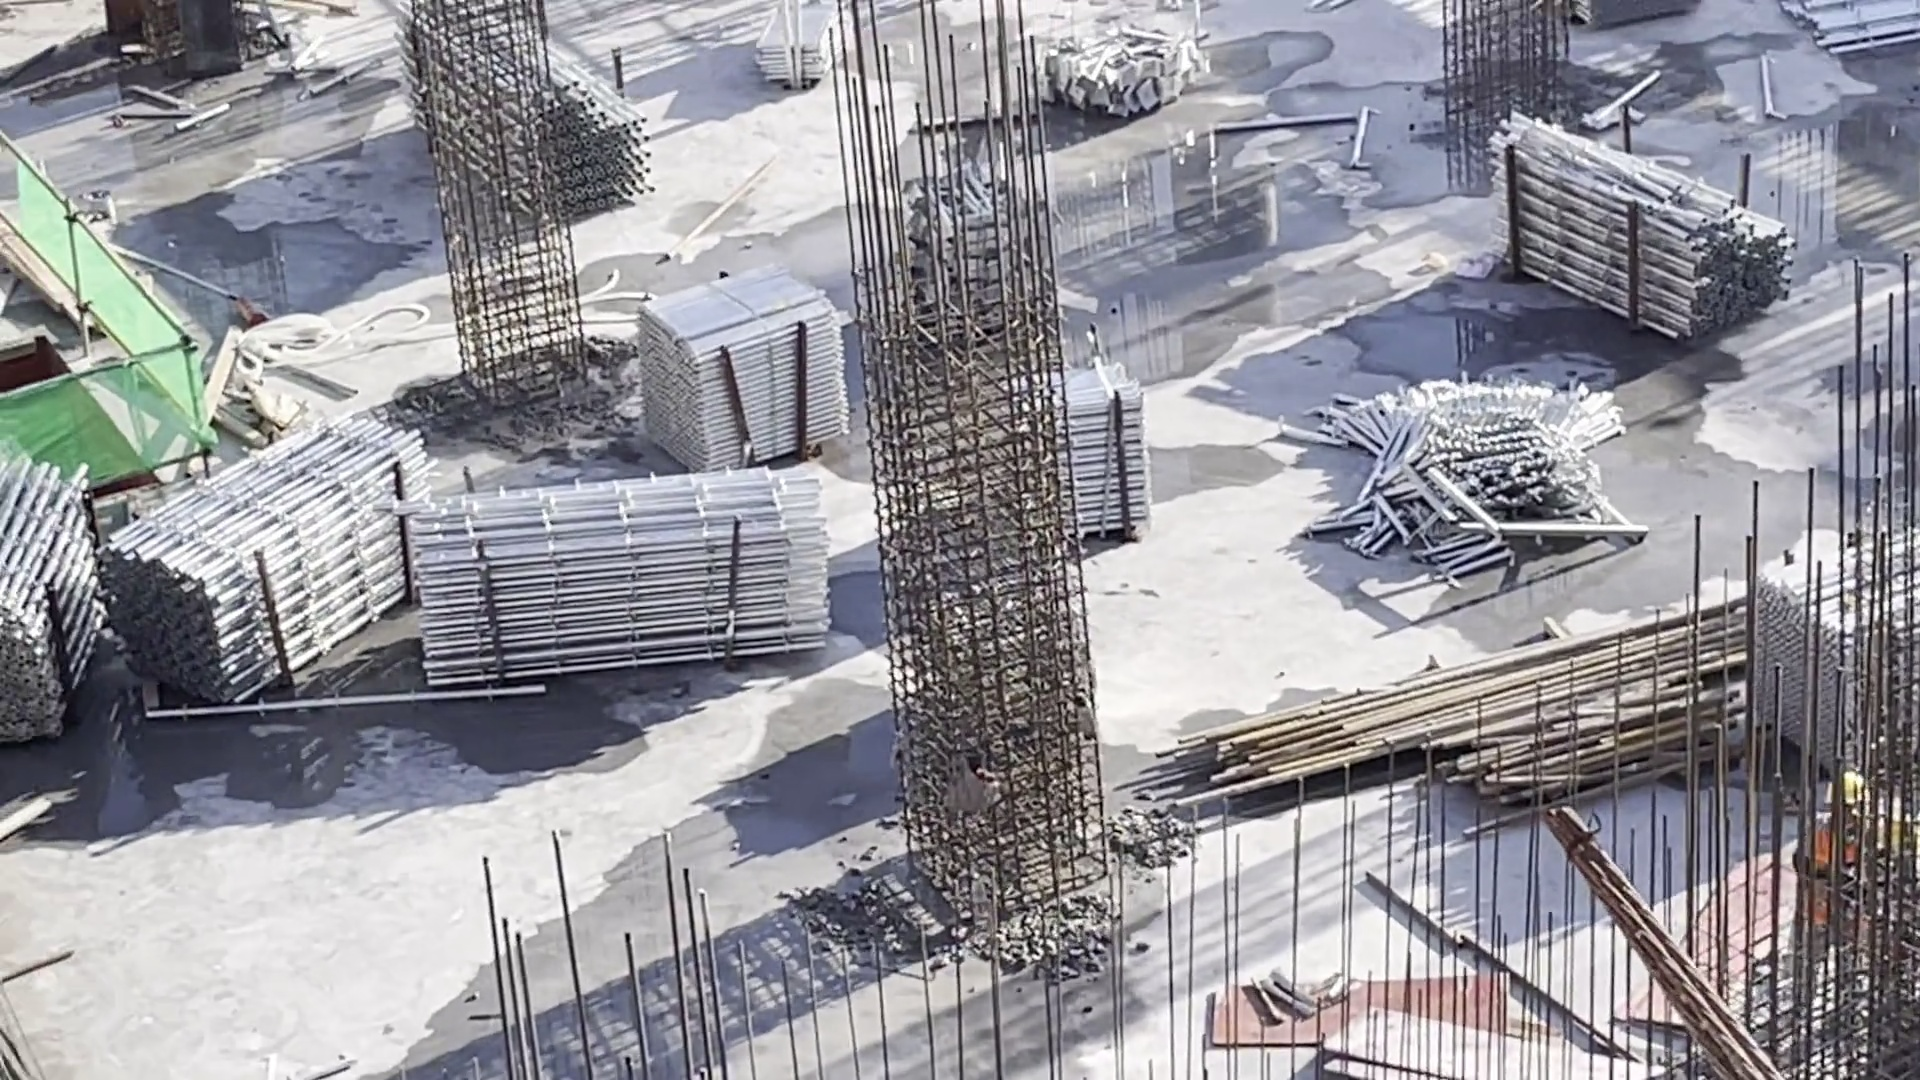board: (1351, 1018, 1595, 1080)
helmet: (1830, 773, 1871, 807)
person: (1786, 769, 1874, 991)
scaffold: (138, 430, 422, 670), (443, 508, 821, 649), (1504, 157, 1769, 352), (1355, 385, 1638, 555), (459, 8, 648, 191), (654, 292, 846, 460), (1755, 560, 1917, 757), (1, 461, 119, 647), (1010, 381, 1149, 537), (755, 1, 828, 99), (1788, 1, 1920, 53), (1572, 1, 1694, 28)
vest: (1801, 825, 1859, 937)
